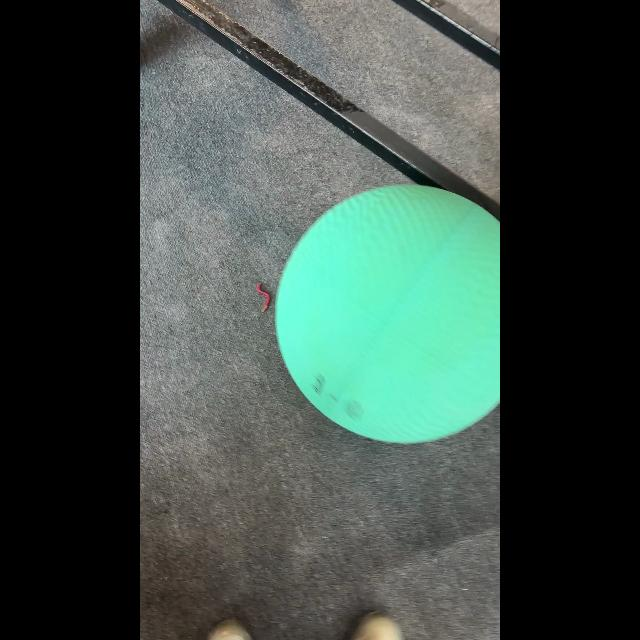ALGAE: (273, 183, 499, 445)
